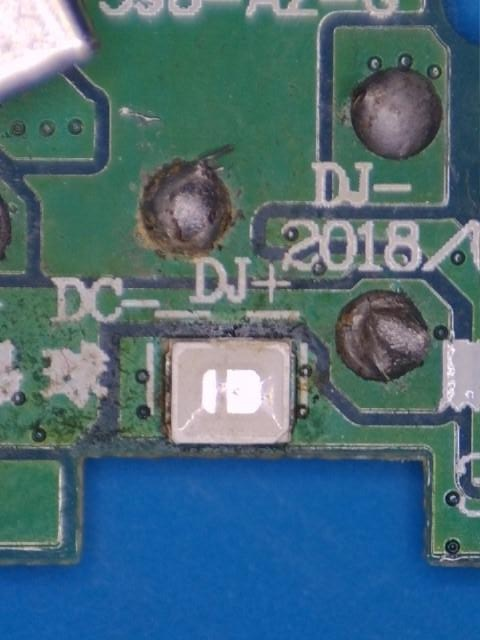pcb_defect: (336, 291, 430, 383), (140, 162, 233, 254), (352, 67, 443, 160)
